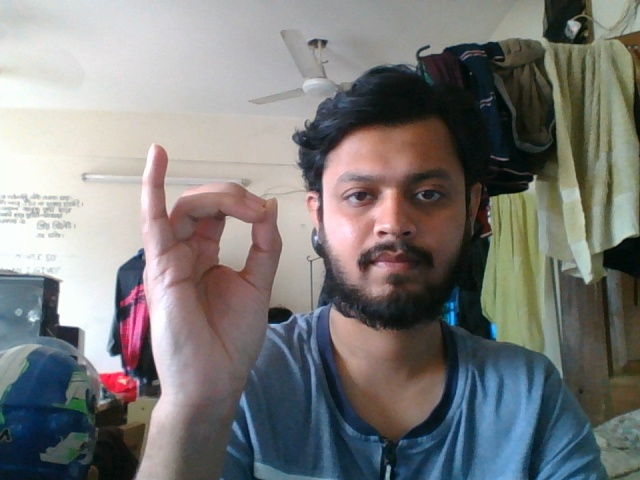ou: (131, 137, 289, 452)
